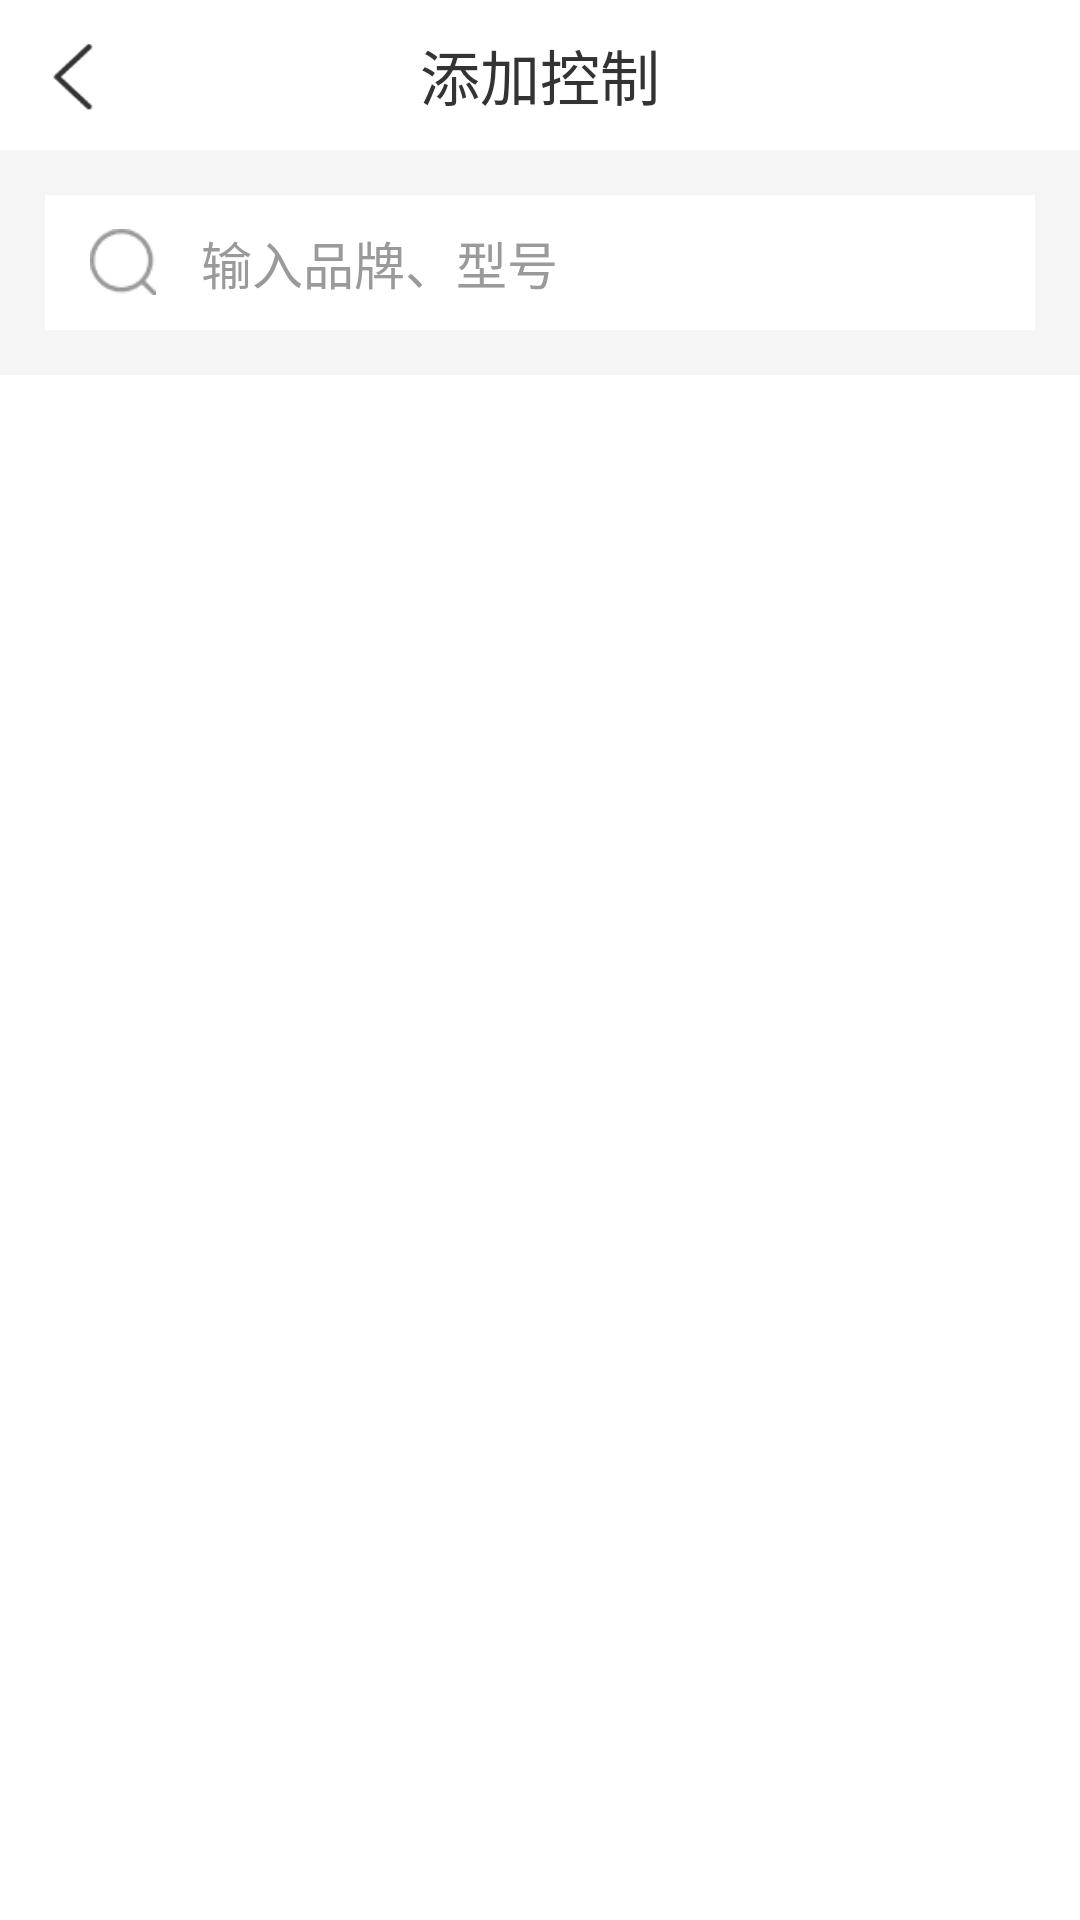

Icons on this 1080w x 1920h Android screen, each with its box as (x1, y1, x2, y2):
back: (53, 44, 93, 110)
search for: (90, 229, 156, 295)
